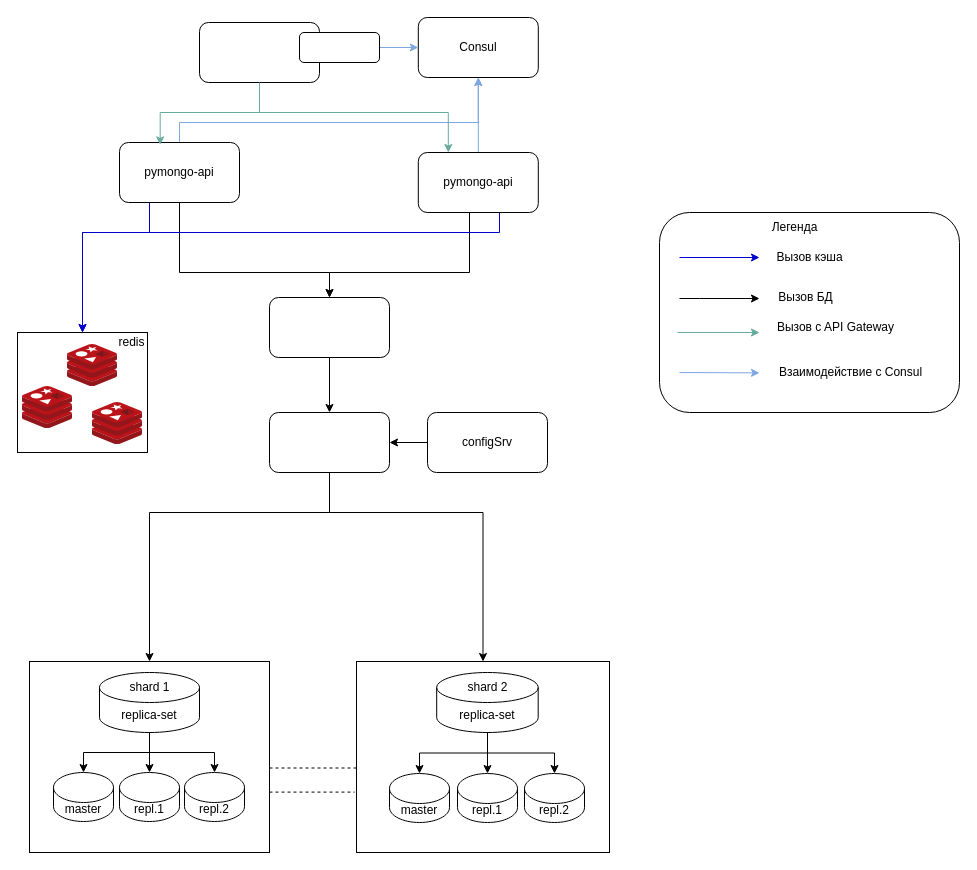
Some shapes in this 977 by 870 pixel diagram are drawn without their labels. Each missing label, with the centre of its shape:
Api-gateway: (x=259, y=52)
Consul_kv: (x=339, y=47)
mongos: (x=329, y=442)
драйвер: (x=329, y=327)
